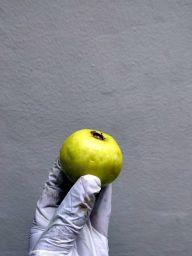guava: (59, 124, 126, 190)
